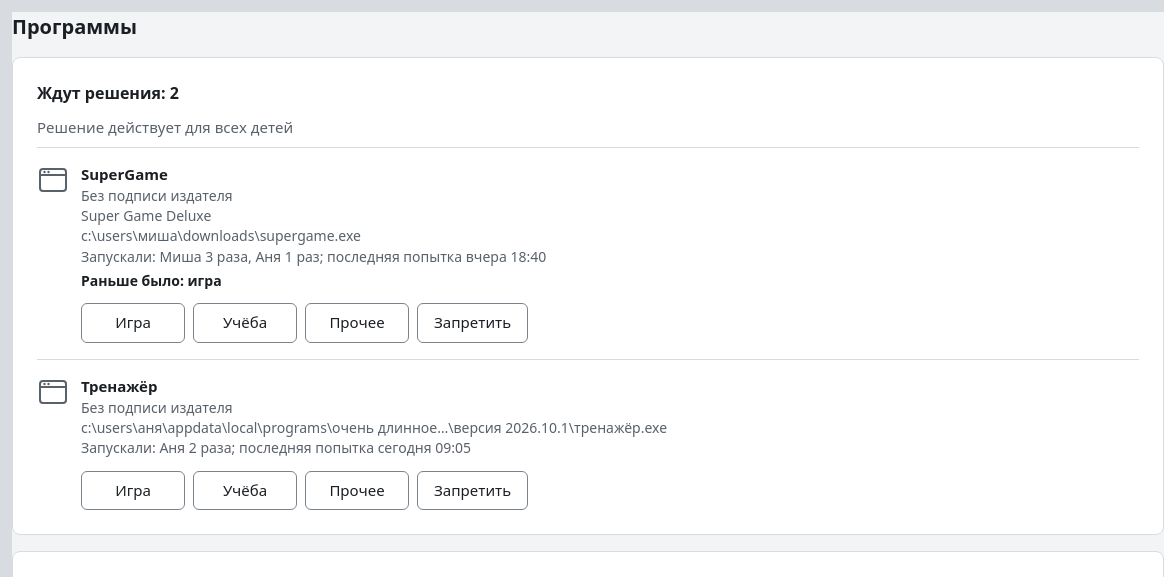
Программы: ждут решения › «Учёба» отправляет учёбу, «Запретить» запрет
Expected: the heading "Ждут решения: 2" is shown, left=37, top=82, right=179, bottom=104
What coordinates should you click on to do the following:
click the button "Учёба" below "Раньше было: игра"
I would click on:
 (245, 323)
Its box is left=193, top=303, right=297, bottom=343.
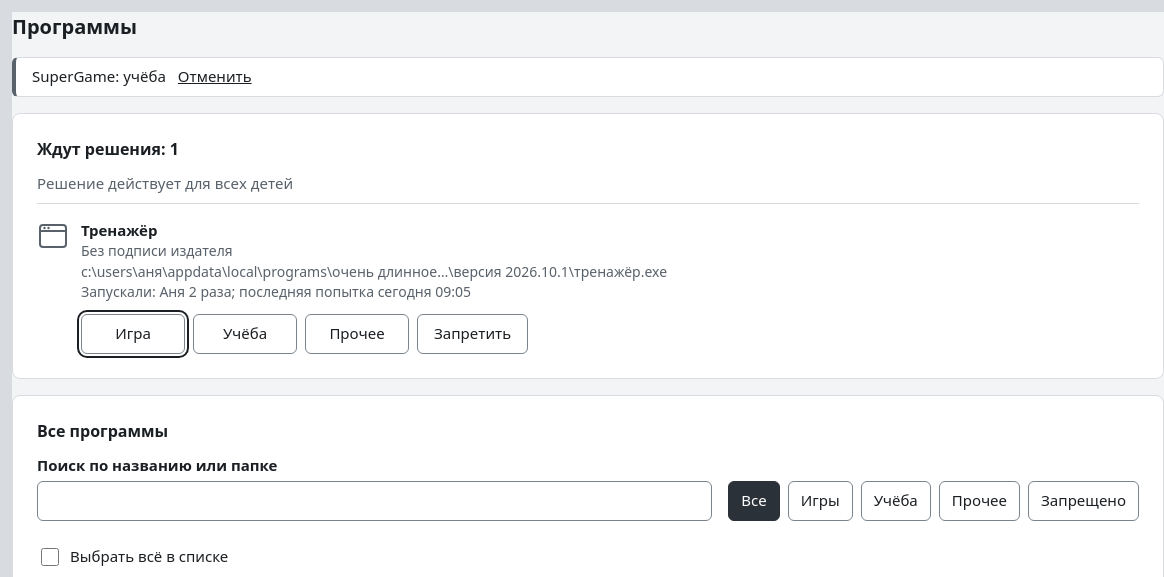
Expected: the text "SuperGame: учёба" is shown, left=32, top=66, right=166, bottom=88
What coordinates should you click on to do the following:
click the button "Запретить"
I would click on:
 (473, 334)
Its box is left=417, top=314, right=528, bottom=354.
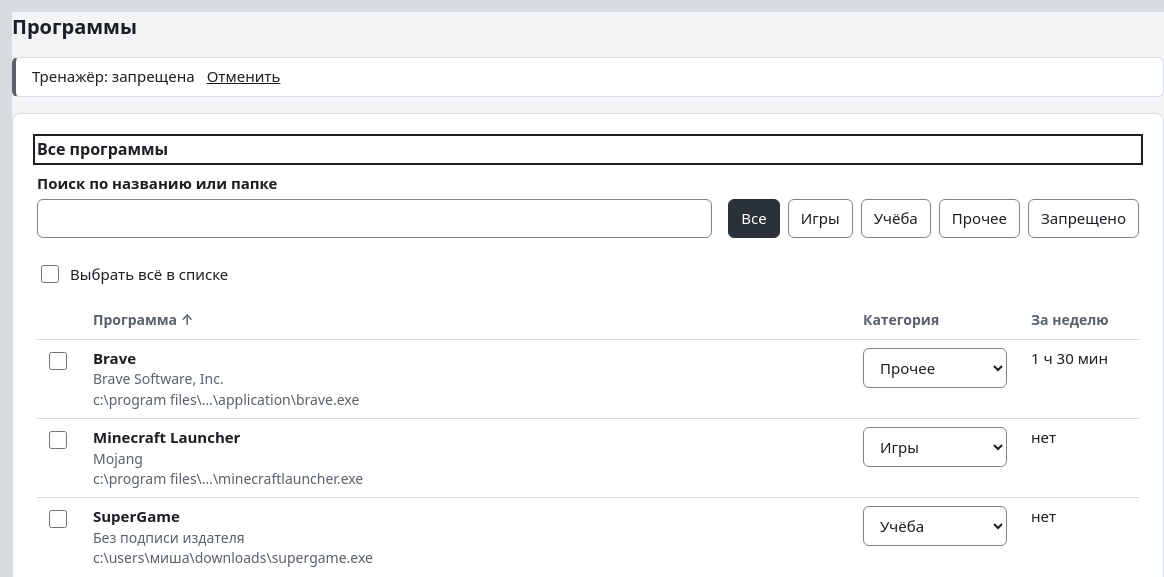
Expected: the text "Тренажёр: запрещена" is shown, left=32, top=66, right=195, bottom=88
